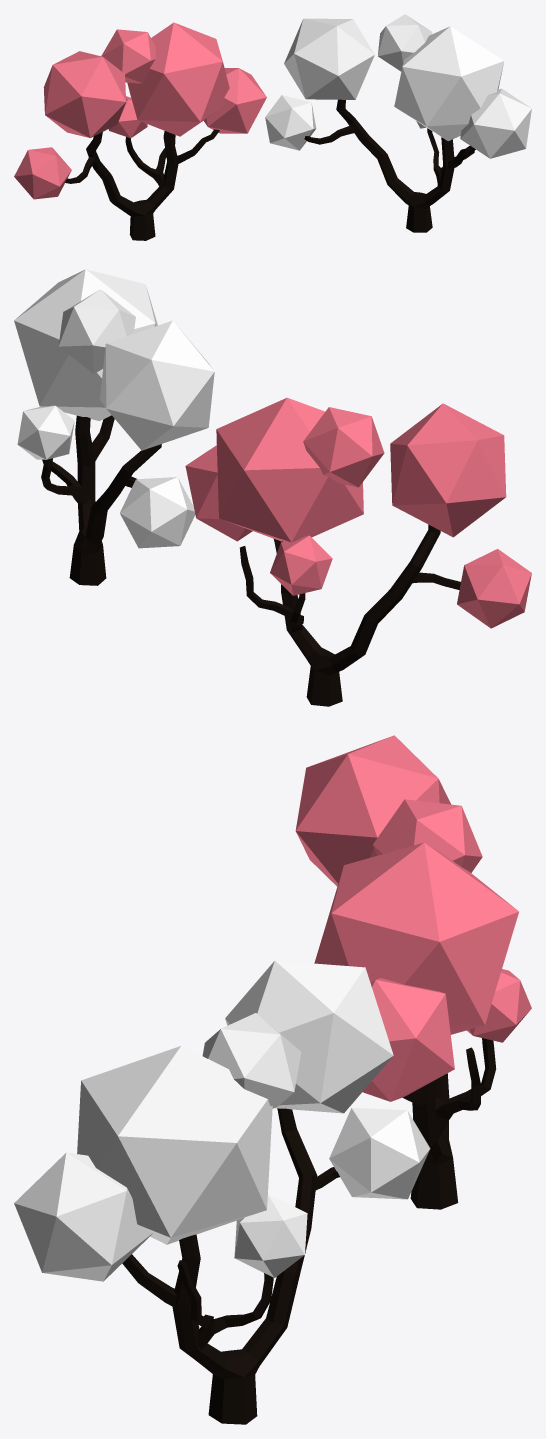
File: Sakuras.obj
The picture shows the model from 3 angles, top to bottom: view 1: azimuth 30°, elevation 25°; view 2: azimuth 150°, elevation 25°; view 3: azimuth 270°, elevation 25°; orthographic projection. The views are drawn at different scales.
Parts seen in each view (by area): view 1: Sakuras_Tree.004, Sakuras_Tree.005, Sakuras_Bark.005, Sakuras_Bark.004; view 2: Sakuras_Tree.005, Sakuras_Tree.004, Sakuras_Bark.005, Sakuras_Bark.004; view 3: Sakuras_Tree.004, Sakuras_Tree.005, Sakuras_Bark.004, Sakuras_Bark.005.
Boxes of the visible parts, x1,y1,x2,y2 form: Sakuras_Tree.004: (265,14,531,158); Sakuras_Tree.005: (14,22,266,199); Sakuras_Bark.005: (65,129,219,240); Sakuras_Bark.004: (304,99,475,232); Sakuras_Tree.005: (185,397,531,628); Sakuras_Tree.004: (14,269,214,548); Sakuras_Bark.005: (239,524,460,706); Sakuras_Bark.004: (41,415,161,585); Sakuras_Tree.004: (14,960,430,1281); Sakuras_Tree.005: (295,735,531,1101); Sakuras_Bark.004: (122,1108,339,1424); Sakuras_Bark.005: (402,1038,496,1209).
Size of the model in its own units: 55.59 by 27.44 by 31.87.
